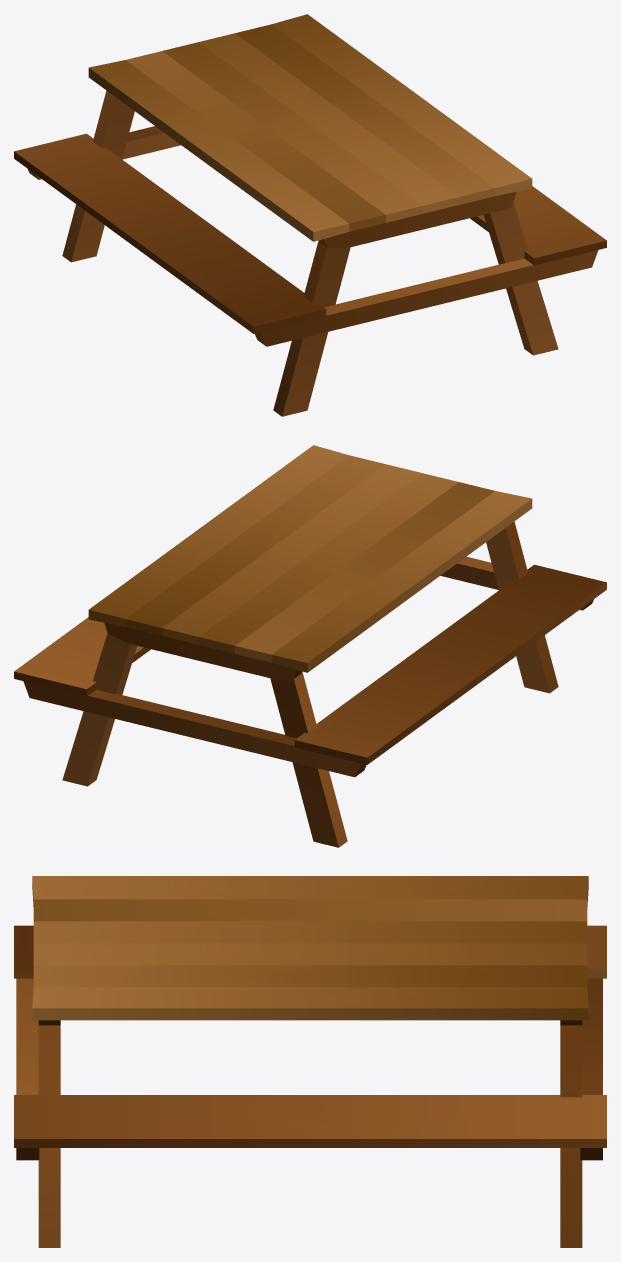
The model's file is Picnic_Bench.fbx.
3 renders of one model, top to bottom at view 1: azimuth 30°, elevation 25°; view 2: azimuth 150°, elevation 25°; view 3: azimuth 270°, elevation 25°, orthographic. The views are drawn at different scales.
Parts seen in each view (by area): view 1: Picnic_Bench; view 2: Picnic_Bench; view 3: Picnic_Bench.
Part boxes in pixels (x1,y1,x2,y2): Picnic_Bench: (14, 14, 606, 416); Picnic_Bench: (14, 445, 606, 847); Picnic_Bench: (14, 876, 606, 1247).
Size of the model in its own units: 154 by 181 by 74.91.
Materials: 1 (1 with a texture image).
